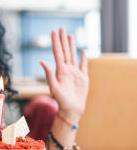down: (36, 26, 92, 113)
